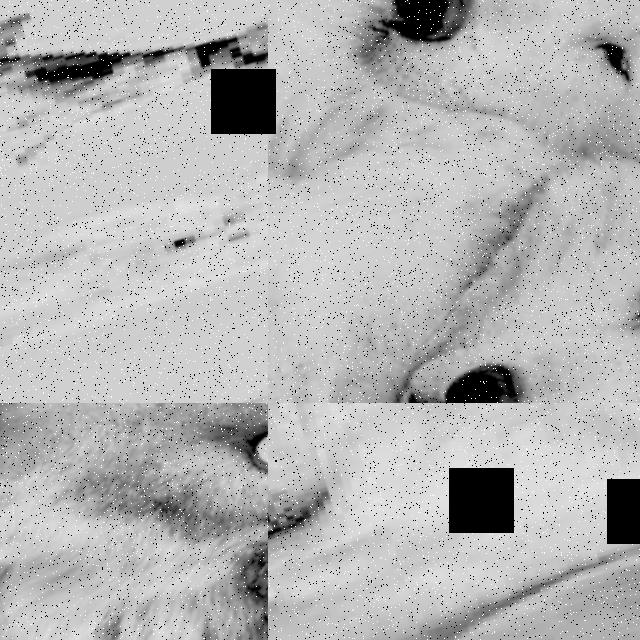dog: (268, 403, 640, 640), (0, 143, 268, 403), (0, 0, 268, 256), (0, 312, 268, 403)
wolf: (268, 0, 640, 403), (329, 0, 640, 279), (0, 403, 268, 640)
